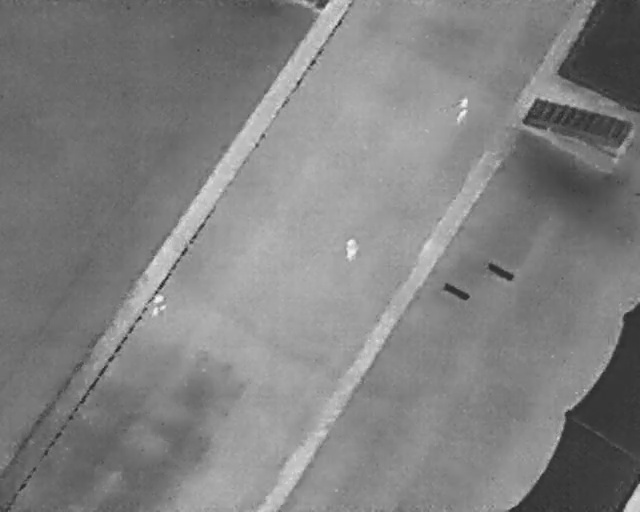Person: (453, 94, 474, 125), (344, 237, 361, 263), (150, 292, 167, 317)
